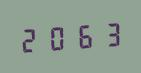six: (70, 20, 95, 51)
three: (96, 18, 121, 49)
two: (18, 23, 43, 54)
zero: (44, 21, 69, 53)
